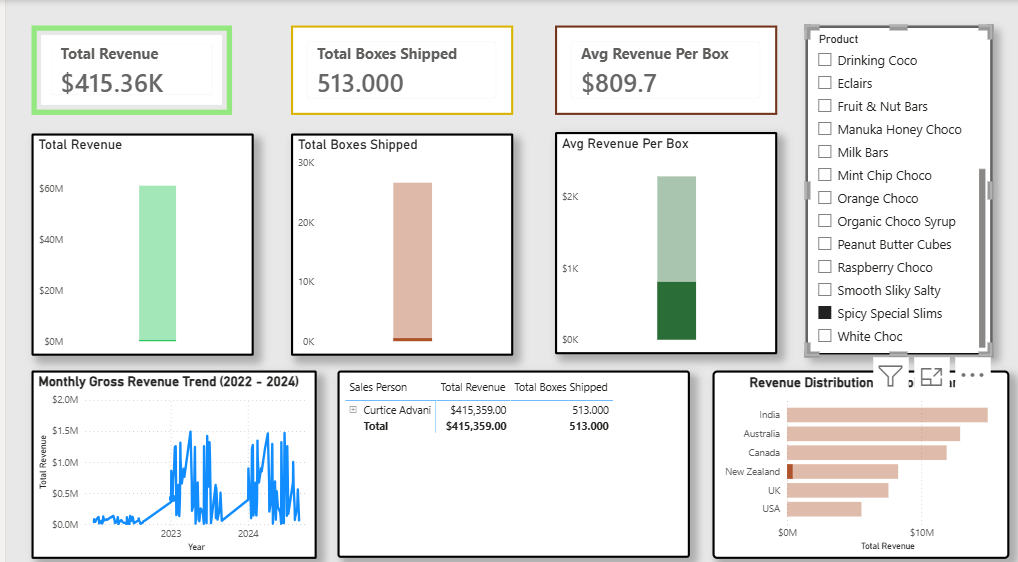

Layout of this report page (visuals, bound fields, positions):
{"tool":"powerbi","page":{"name":"Page 1","canvas":[1280,720],"ordinal":0},"visuals":[{"type":"clusteredColumnChart","fields":{"Y":["Cleaned_Chocolate_Sales.Total Revenue"]},"box":[31.8,168.6,279.9,279.9],"z":0},{"type":"clusteredColumnChart","fields":{"Y":["Cleaned_Chocolate_Sales.Total Boxes Shipped"]},"box":[359.5,168.6,279.9,279.9],"z":1000},{"type":"clusteredColumnChart","fields":{"Y":["Cleaned_Chocolate_Sales.Avg Revenue Per Box"]},"box":[691.9,167,279.9,279.9],"z":2000},{"type":"cardVisual","fields":{"Data":["Cleaned_Chocolate_Sales.Total Revenue"]},"box":[31.8,31.8,252.9,112.9],"z":3000},{"type":"cardVisual","fields":{"Data":["Cleaned_Chocolate_Sales.Total Boxes Shipped"]},"box":[359.5,31.8,279.9,112.9],"z":4000},{"type":"cardVisual","fields":{"Data":["Cleaned_Chocolate_Sales.Avg Revenue Per Box"]},"box":[691.9,31.8,279.9,112.9],"z":5000},{"type":"clusteredBarChart","title":"Revenue Distribution by Global Market","fields":{"Category":["Cleaned_Chocolate_Sales.Country"],"Y":["Cleaned_Chocolate_Sales.Total Revenue"]},"box":[889.2,467.6,373.8,237],"z":6000},{"type":"lineChart","title":"Monthly Gross Revenue Trend (2022 - 2024)","fields":{"Y":["Cleaned_Chocolate_Sales.Total Revenue"],"Category":["Cleaned_Chocolate_Sales.Date.Variation.Date Hierarchy.Year","Cleaned_Chocolate_Sales.Date.Variation.Date Hierarchy.Quarter","Cleaned_Chocolate_Sales.Date.Variation.Date Hierarchy.Month","Cleaned_Chocolate_Sales.Date.Variation.Date Hierarchy.Day"]},"box":[31.8,467.6,359.5,237],"z":7000},{"type":"pivotTable","fields":{"Rows":["Cleaned_Chocolate_Sales.Sales Person","Cleaned_Chocolate_Sales.Product"],"Values":["Cleaned_Chocolate_Sales.Total Revenue","Cleaned_Chocolate_Sales.Total Boxes Shipped"]},"box":[417.6,466.8,444.1,236.2],"z":8000},{"type":"slicer","fields":{"Values":["Cleaned_Chocolate_Sales.Product"]},"box":[1006.9,31.8,235.4,415.1],"z":9000}]}

Visuals, with their boxes in screenshot pixels (x1, y1, x2, y2), scaled from the page's 1280x720 canvas onto the 1018x562 screenshot:
clusteredColumnChart - Cleaned_Chocolate_Sales.Total Revenue: <bbox>25, 132, 248, 350</bbox>
clusteredColumnChart - Cleaned_Chocolate_Sales.Total Boxes Shipped: <bbox>286, 132, 509, 350</bbox>
clusteredColumnChart - Cleaned_Chocolate_Sales.Avg Revenue Per Box: <bbox>550, 130, 773, 349</bbox>
cardVisual - Cleaned_Chocolate_Sales.Total Revenue: <bbox>25, 25, 226, 113</bbox>
cardVisual - Cleaned_Chocolate_Sales.Total Boxes Shipped: <bbox>286, 25, 509, 113</bbox>
cardVisual - Cleaned_Chocolate_Sales.Avg Revenue Per Box: <bbox>550, 25, 773, 113</bbox>
"Revenue Distribution by Global Market" clusteredBarChart: <bbox>707, 365, 1004, 550</bbox>
"Monthly Gross Revenue Trend (2022 - 2024)" lineChart: <bbox>25, 365, 311, 550</bbox>
pivotTable - Cleaned_Chocolate_Sales.Sales Person x Cleaned_Chocolate_Sales.Product: <bbox>332, 364, 685, 549</bbox>
slicer - Cleaned_Chocolate_Sales.Product: <bbox>801, 25, 988, 349</bbox>
